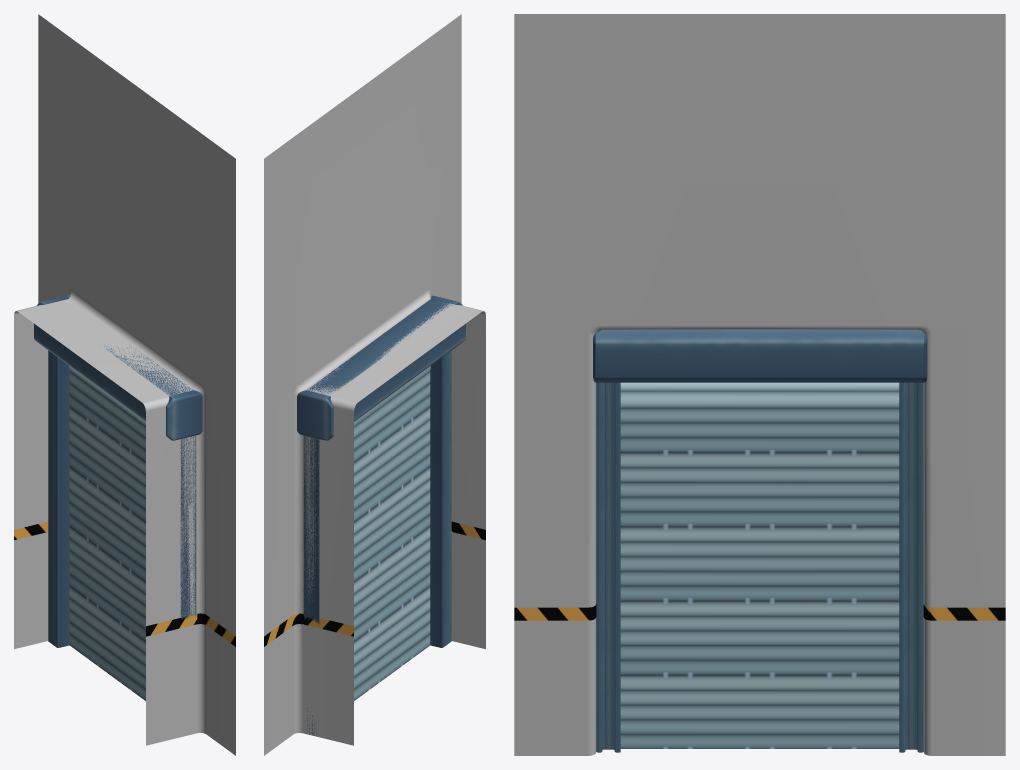
Rendered from SM_GarageDoorGroup.fbx.
3 renders of one model, left to right at view 1: azimuth 30°, elevation 25°; view 2: azimuth 150°, elevation 25°; view 3: azimuth 270°, elevation 25°, orthographic. The views are drawn at different scales.
Parts seen in each view (by area): view 1: GarageDoorWall, GarageDoor, GarageDoorSides; view 2: GarageDoorWall, GarageDoor, GarageDoorSides; view 3: GarageDoorWall, GarageDoor, GarageDoorSides.
Boxes of the visible parts, x1,y1,x2,y2 form: GarageDoorWall: (14,14,235,755); GarageDoor: (69,366,145,700); GarageDoorSides: (34,295,202,647); GarageDoorWall: (264,14,485,755); GarageDoor: (354,366,430,700); GarageDoorSides: (297,295,465,736); GarageDoorWall: (514,14,1005,755); GarageDoor: (620,382,899,748); GarageDoorSides: (593,330,927,752).
Bounding box in the file's own units: 105 × 1000 × 600.
